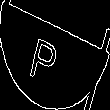P_N: (38, 25, 72, 85)
